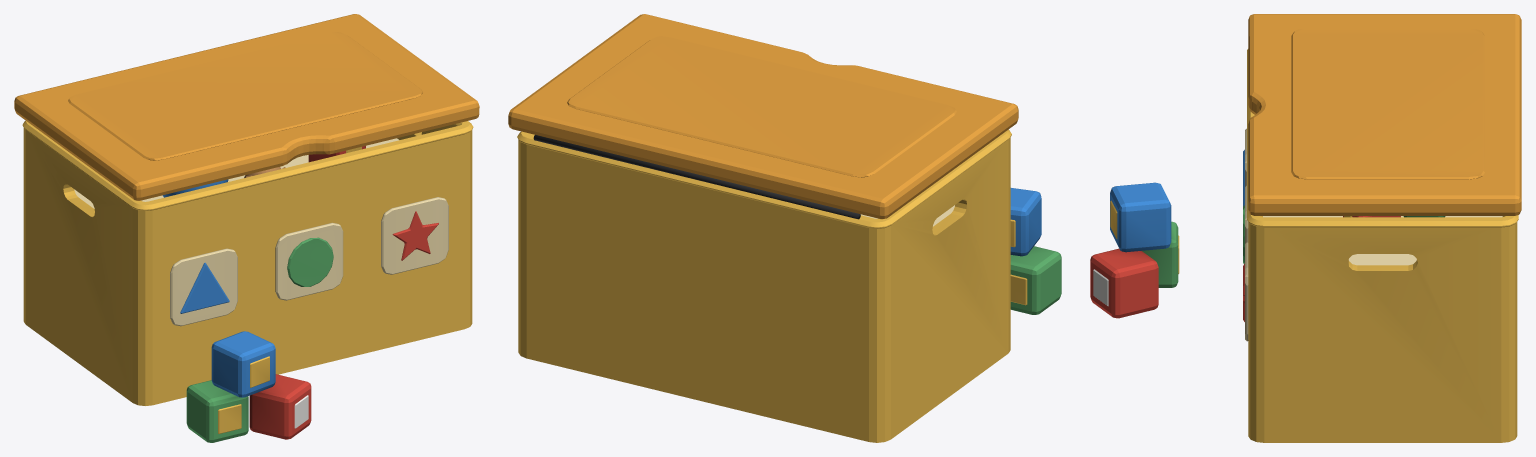
Rendered from toyBox.glb.
3 renders of one model, left to right at view 1: azimuth 30°, elevation 25°; view 2: azimuth 150°, elevation 25°; view 3: azimuth 270°, elevation 25°, orthographic. The views are drawn at different scales.
Visible parts, largest first — view 1: body, lid; view 2: body, lid; view 3: body, lid.
Part boxes in pixels (x1,y1,x2,y2): body: [22, 120, 473, 442]; lid: [14, 14, 479, 200]; body: [517, 129, 1061, 442]; lid: [508, 14, 1018, 219]; body: [1090, 49, 1518, 442]; lid: [1248, 14, 1521, 215].
Size of the model in its own units: 0.82 by 0.511 by 0.8015.
